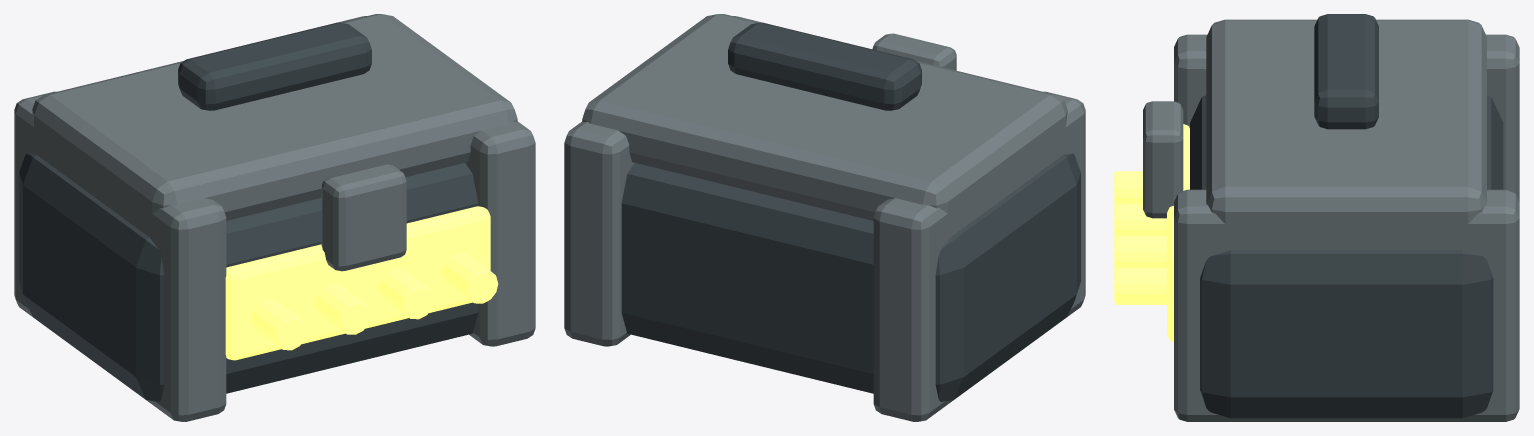
The model's file is AmmoBox_A.fbx.
3 renders of one model, left to right at view 1: azimuth 30°, elevation 25°; view 2: azimuth 150°, elevation 25°; view 3: azimuth 270°, elevation 25°, orthographic. The views are drawn at different scales.
Parts seen in each view (by area): view 1: Ammo Box Lid, Ammo Box Shell, Ammo Box Corner, Ammo Box Front Plate, Ammo Box Corner.001, Ammo Box Handle, Ammo Box Latch, Ammo Status Cartridge.001, Ammo Status Cartridge.003, Ammo Status Cartridge, Ammo Status Cartridge.002; view 2: Ammo Box Shell, Ammo Box Lid, Ammo Box Corner, Ammo Box Corner.001, Ammo Box Handle, Ammo Box Latch; view 3: Ammo Box Lid, Ammo Box Shell, Ammo Box Corner.001, Ammo Box Handle, Ammo Box Corner, Ammo Box Latch, Ammo Status Cartridge.003, Ammo Status Cartridge.002, Ammo Status Cartridge.001, Ammo Box Front Plate, Ammo Status Cartridge.
Boxes of the visible parts, x1,y1,x2,y2 form: Ammo Box Lid: (32, 14, 517, 220); Ammo Box Shell: (19, 153, 478, 401); Ammo Box Corner: (14, 91, 226, 421); Ammo Box Front Plate: (225, 206, 490, 360); Ammo Box Corner.001: (338, 16, 535, 346); Ammo Box Handle: (178, 22, 371, 110); Ammo Box Latch: (321, 164, 406, 271); Ammo Status Cartridge.001: (314, 283, 370, 334); Ammo Status Cartridge.003: (442, 252, 498, 303); Ammo Status Cartridge: (251, 299, 307, 350); Ammo Status Cartridge.002: (378, 268, 434, 319); Ammo Box Shell: (621, 153, 1080, 401); Ammo Box Lid: (582, 14, 1067, 220); Ammo Box Corner: (873, 91, 1085, 421); Ammo Box Corner.001: (564, 16, 761, 346); Ammo Box Handle: (728, 22, 921, 110); Ammo Box Latch: (872, 33, 956, 70); Ammo Box Lid: (1206, 19, 1486, 231); Ammo Box Shell: (1190, 95, 1503, 418); Ammo Box Corner.001: (1174, 189, 1519, 421); Ammo Box Handle: (1314, 14, 1378, 129); Ammo Box Corner: (1174, 34, 1519, 201); Ammo Box Latch: (1143, 101, 1183, 218); Ammo Status Cartridge.003: (1114, 267, 1166, 304); Ammo Status Cartridge.002: (1114, 235, 1166, 269); Ammo Status Cartridge.001: (1114, 203, 1166, 237); Ammo Box Front Plate: (1167, 124, 1189, 341); Ammo Status Cartridge: (1114, 171, 1142, 205).
Size of the model in its own units: 0.86 by 0.58 by 0.75.
